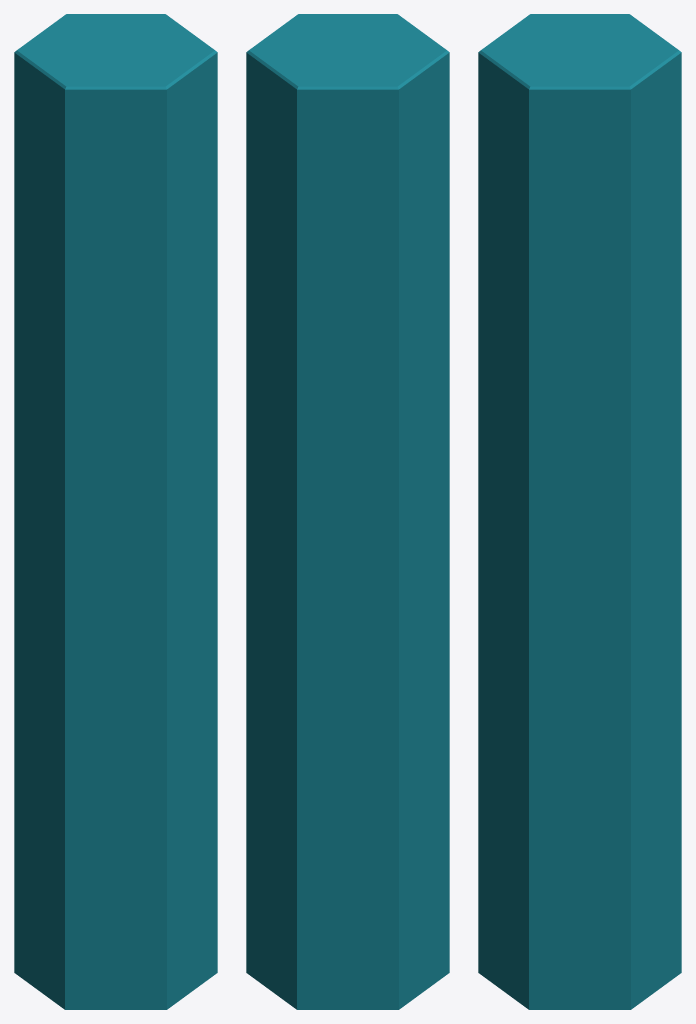
File: hex_water_plain.glb
3 renders of one model, left to right at view 1: azimuth 30°, elevation 25°; view 2: azimuth 150°, elevation 25°; view 3: azimuth 270°, elevation 25°, orthographic.
Parts seen in each view (by area): view 1: Hex; view 2: Hex; view 3: Hex.
Part boxes in pixels (x1=…): Hex: x1=14, y1=14, x2=217, y2=1009; Hex: x1=246, y1=14, x2=449, y2=1009; Hex: x1=478, y1=14, x2=681, y2=1009.
Size of the model in its own units: 1.73 by 10 by 2.
